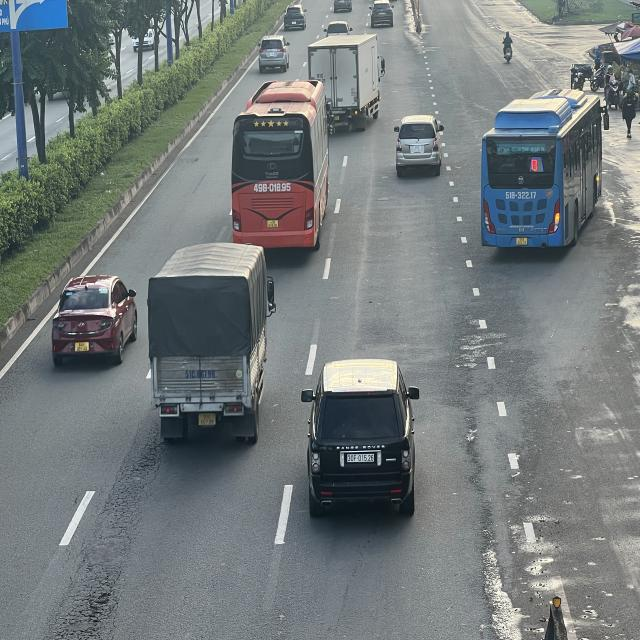car: (302, 358, 420, 517), (50, 273, 138, 364), (393, 115, 446, 176)
coach: (482, 95, 606, 257), (232, 78, 331, 252)
truck: (152, 248, 279, 447), (308, 34, 386, 131)
